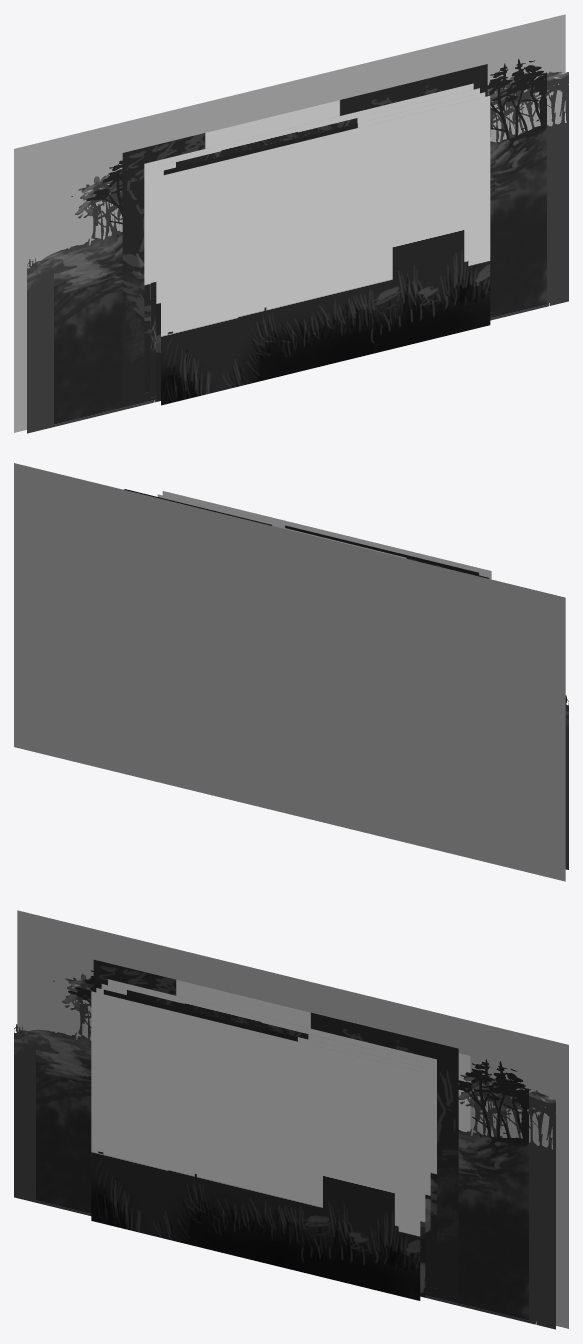
The model's file is page22_01_A.fbx.
3 views of the same model, one above another, from view 1: azimuth 30°, elevation 25°; view 2: azimuth 150°, elevation 25°; view 3: azimuth 330°, elevation 25° (orthographic).
Visible parts, largest first — view 1: fgnear, background, bgmid, bgfar, bgnear, fgfar, fgmid, harry; view 2: background, fgnear, harry, bgfar, bgnear; view 3: fgnear, background, bgmid, bgfar, bgnear, fgfar, fgmid, harry, activated.
Boxes of the visible parts, x1,y1,x2,y2 form: fgnear: [161, 95, 490, 405]; background: [14, 14, 565, 432]; bgmid: [54, 58, 546, 424]; bgfar: [27, 71, 568, 433]; bgnear: [122, 64, 487, 407]; fgfar: [144, 83, 473, 393]; fgmid: [150, 88, 479, 397]; harry: [156, 92, 485, 401]; background: [14, 463, 565, 881]; fgnear: [162, 491, 491, 579]; harry: [157, 494, 486, 576]; bgfar: [565, 695, 568, 869]; bgnear: [124, 489, 489, 578]; fgnear: [91, 991, 420, 1300]; background: [17, 910, 568, 1328]; bgmid: [36, 970, 528, 1320]; bgfar: [14, 973, 555, 1329]; bgnear: [93, 959, 458, 1302]; fgfar: [108, 979, 436, 1288]; fgmid: [101, 984, 430, 1293]; harry: [96, 988, 425, 1297]; activated: [458, 1053, 470, 1132].
Size of the model in its own units: 290 by 143 by 33.33.
